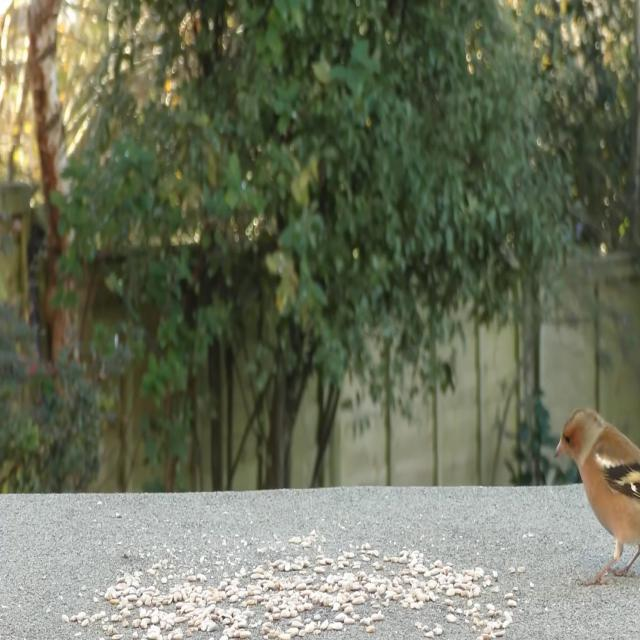beak: (552, 434, 568, 463)
bird: (552, 397, 640, 582)
